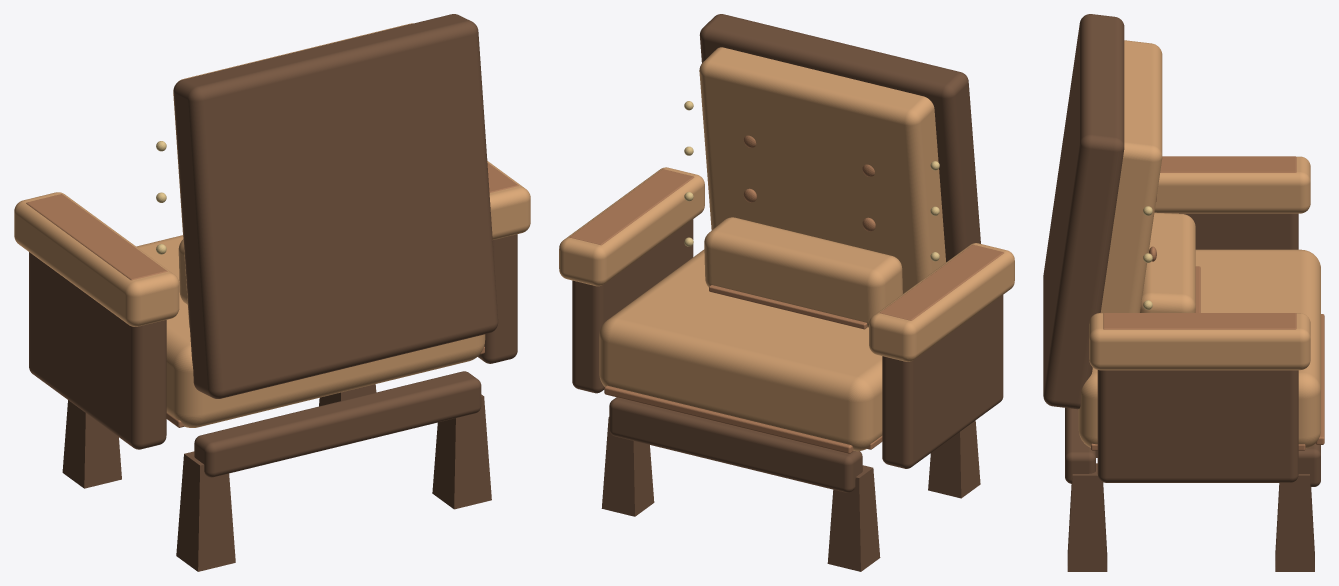
File: w25-cognac-lodge-reading-chair.glb
The picture shows the model from 3 angles, left to right: view 1: azimuth 30°, elevation 25°; view 2: azimuth 150°, elevation 25°; view 3: azimuth 270°, elevation 25°; orthographic projection. The views are drawn at different scales.
Parts seen in each view (by area): view 1: back_frame, arm_rail_-0.535, lower_apron_back, seat_cushion, arm_pad_-0.535, foot_-0.39_0.3, foot_0.39_0.3, arm_piping_-0.535, foot_-0.39_-0.3, arm_rail_0.535, arm_pad_0.535; view 2: back_cushion, seat_cushion, back_frame, lumbar_cushion, arm_rail_-0.535, lower_apron_front, arm_rail_0.535, arm_pad_-0.535, arm_pad_0.535, foot_-0.39_-0.3, foot_0.39_-0.3, arm_piping_0.535 (+4 smaller); view 3: arm_rail_0.535, back_frame, seat_cushion, back_cushion, arm_pad_0.535, arm_pad_-0.535, lumbar_cushion, arm_rail_-0.535, foot_0.39_0.3, foot_0.39_-0.3, arm_piping_0.535, arm_piping_-0.535 (+3 smaller).
Part boxes in pixels (box(x1,y1,x2,y2)): back_frame: box(173, 14, 498, 398); arm_rail_-0.535: box(29, 252, 166, 449); lower_apron_back: box(194, 371, 481, 477); seat_cushion: box(136, 235, 485, 427); arm_pad_-0.535: box(14, 192, 179, 326); foot_-0.39_0.3: box(176, 451, 235, 571); foot_0.39_0.3: box(432, 394, 491, 509); arm_piping_-0.535: box(26, 194, 167, 280); foot_-0.39_-0.3: box(62, 400, 121, 488); arm_rail_0.535: box(478, 234, 517, 363); arm_pad_0.535: box(487, 161, 530, 239); back_cushion: box(699, 47, 946, 293); seat_cushion: box(599, 249, 882, 451); back_frame: box(699, 14, 980, 261); lumbar_cushion: box(704, 217, 902, 327); arm_rail_-0.535: box(882, 295, 1003, 468); lower_apron_front: box(609, 397, 862, 492); arm_rail_0.535: box(572, 219, 693, 393); arm_pad_-0.535: box(869, 243, 1014, 361); arm_pad_0.535: box(559, 167, 704, 286); foot_-0.39_-0.3: box(827, 465, 880, 571); foot_0.39_-0.3: box(601, 417, 654, 516); arm_piping_0.535: box(569, 169, 694, 245); arm_rail_0.535: box(1097, 370, 1298, 482); back_frame: box(1043, 14, 1124, 409); seat_cushion: box(1078, 249, 1320, 448); back_cushion: box(1100, 40, 1162, 312); arm_pad_0.535: box(1089, 313, 1310, 370); arm_pad_-0.535: box(1154, 156, 1310, 213); lumbar_cushion: box(1140, 212, 1195, 312); arm_rail_-0.535: box(1179, 213, 1298, 249); foot_0.39_0.3: box(1067, 463, 1107, 571); foot_0.39_-0.3: box(1275, 474, 1314, 571); arm_piping_0.535: box(1103, 313, 1296, 329); arm_piping_-0.535: box(1160, 156, 1296, 172).
Bounding box in the file's own units: 1.23 × 1.38 × 0.8121.
